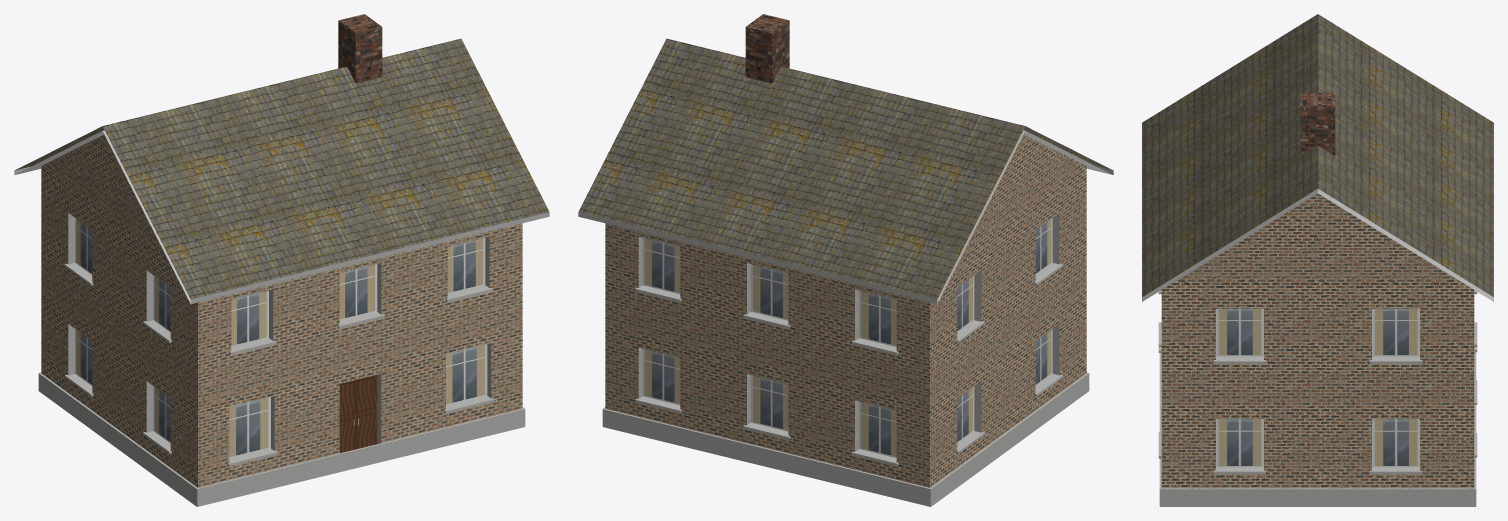
File: edificio_09_casa_tejado.glb
3 views of the same model, side by side, from view 1: azimuth 30°, elevation 25°; view 2: azimuth 150°, elevation 25°; view 3: azimuth 270°, elevation 25° (orthographic).
Parts seen in each view (by area): view 1: EB09_casa_tejado; view 2: EB09_casa_tejado; view 3: EB09_casa_tejado.
Part boxes in pixels (x1=…): EB09_casa_tejado: x1=14, y1=14, x2=549, y2=506; EB09_casa_tejado: x1=578, y1=14, x2=1113, y2=506; EB09_casa_tejado: x1=1142, y1=14, x2=1493, y2=506.
Size of the model in its own units: 9.48 by 9.24 by 8.07.
Materials: 5 (5 with a texture image).
